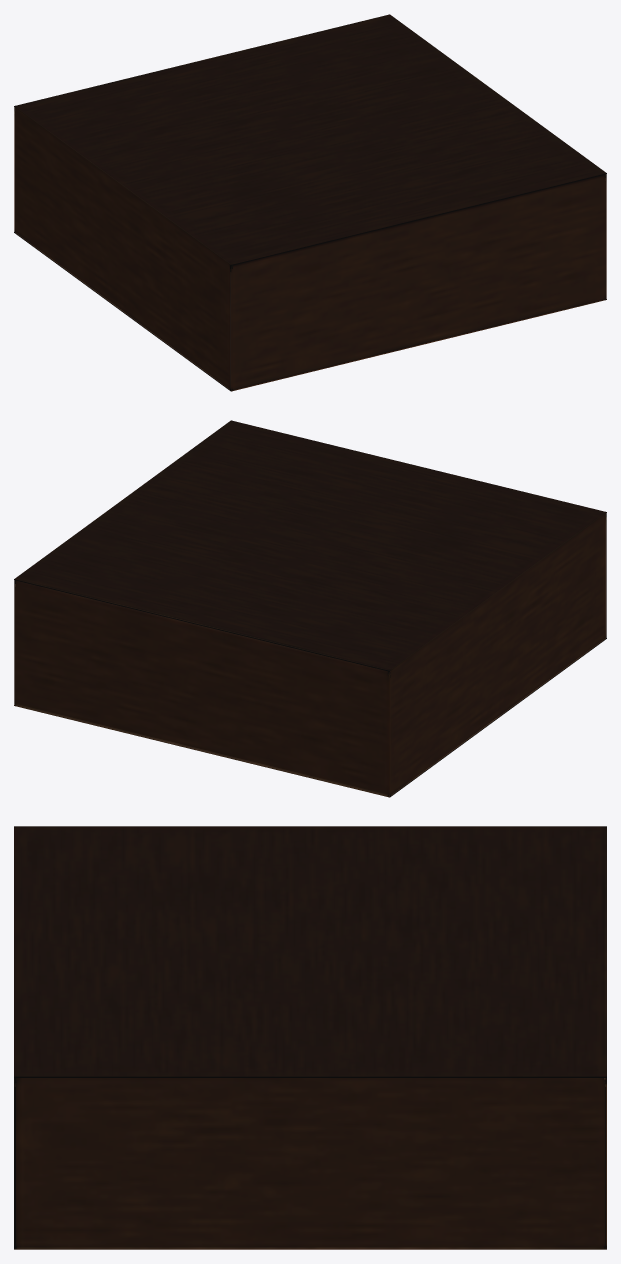
Rendered from ruangan-kotak-besar.glb.
The picture shows the model from 3 angles, top to bottom: view 1: azimuth 30°, elevation 25°; view 2: azimuth 150°, elevation 25°; view 3: azimuth 270°, elevation 25°; orthographic projection. The views are drawn at different scales.
Parts seen in each view (by area): view 1: TraditionalRoomShell; view 2: TraditionalRoomShell; view 3: TraditionalRoomShell.
Boxes of the visible parts, x1,y1,x2,y2 form: TraditionalRoomShell: (14, 14, 606, 391); TraditionalRoomShell: (14, 420, 606, 797); TraditionalRoomShell: (14, 826, 606, 1249).
Bounding box in the file's own units: 16.1 × 5.18 × 16.1.
2 materials, 1 textured.
